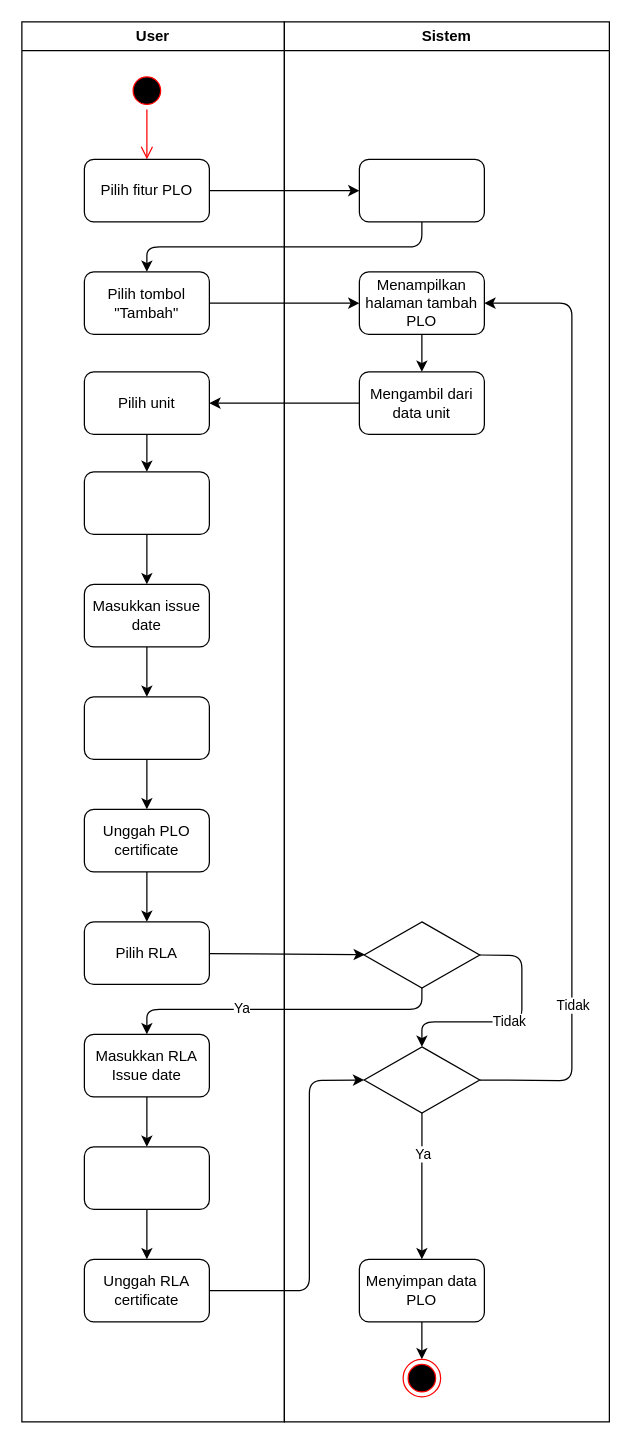
The diagram is 631 pixels wide and 1444 high, and some of its shapes have lost their labels. Here are the shapes that lost their labels. From the top down, the centre of each, then its label:
[421,190]: Menampilkan halaman PLO
[146,502]: Masukkan no. certificate
[146,727]: Masukkan inspection due date
[421,954]: Available
[421,1079]: Validasi Data
[146,1177]: Masukkan RLA due date
